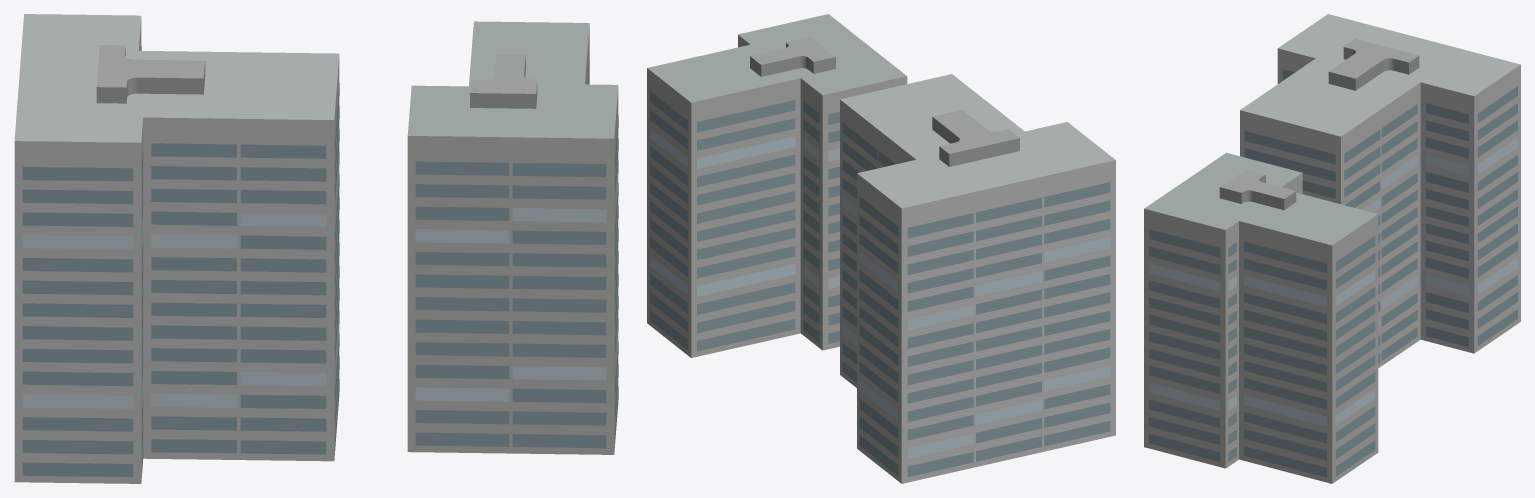
Rendered from named-apt-8ba1ef66-c4b0-4dc2-a0e9-f034b8b2f36b.glb.
3 renders of one model, left to right at view 1: azimuth 30°, elevation 25°; view 2: azimuth 150°, elevation 25°; view 3: azimuth 270°, elevation 25°, orthographic. The views are drawn at different scales.
Visible parts, largest first — view 1: named-apt-8ba1ef66-c4b0-4dc2-a0e9-f034b8b2f36b; view 2: named-apt-8ba1ef66-c4b0-4dc2-a0e9-f034b8b2f36b; view 3: named-apt-8ba1ef66-c4b0-4dc2-a0e9-f034b8b2f36b.
Part boxes in pixels (x1,y1,x2,y2): named-apt-8ba1ef66-c4b0-4dc2-a0e9-f034b8b2f36b: (14,14,618,483); named-apt-8ba1ef66-c4b0-4dc2-a0e9-f034b8b2f36b: (647,14,1115,483); named-apt-8ba1ef66-c4b0-4dc2-a0e9-f034b8b2f36b: (1144,14,1520,483).
Bounding box in the file's own units: 69.39 × 41 × 51.95.
